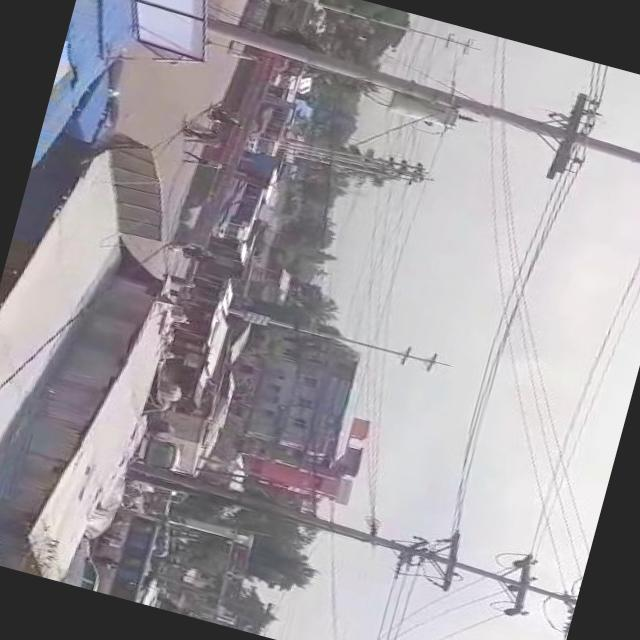bus: (89, 501, 168, 602), (214, 172, 268, 242), (242, 96, 298, 160), (272, 52, 310, 90), (225, 0, 297, 12)
car: (68, 534, 118, 592)
